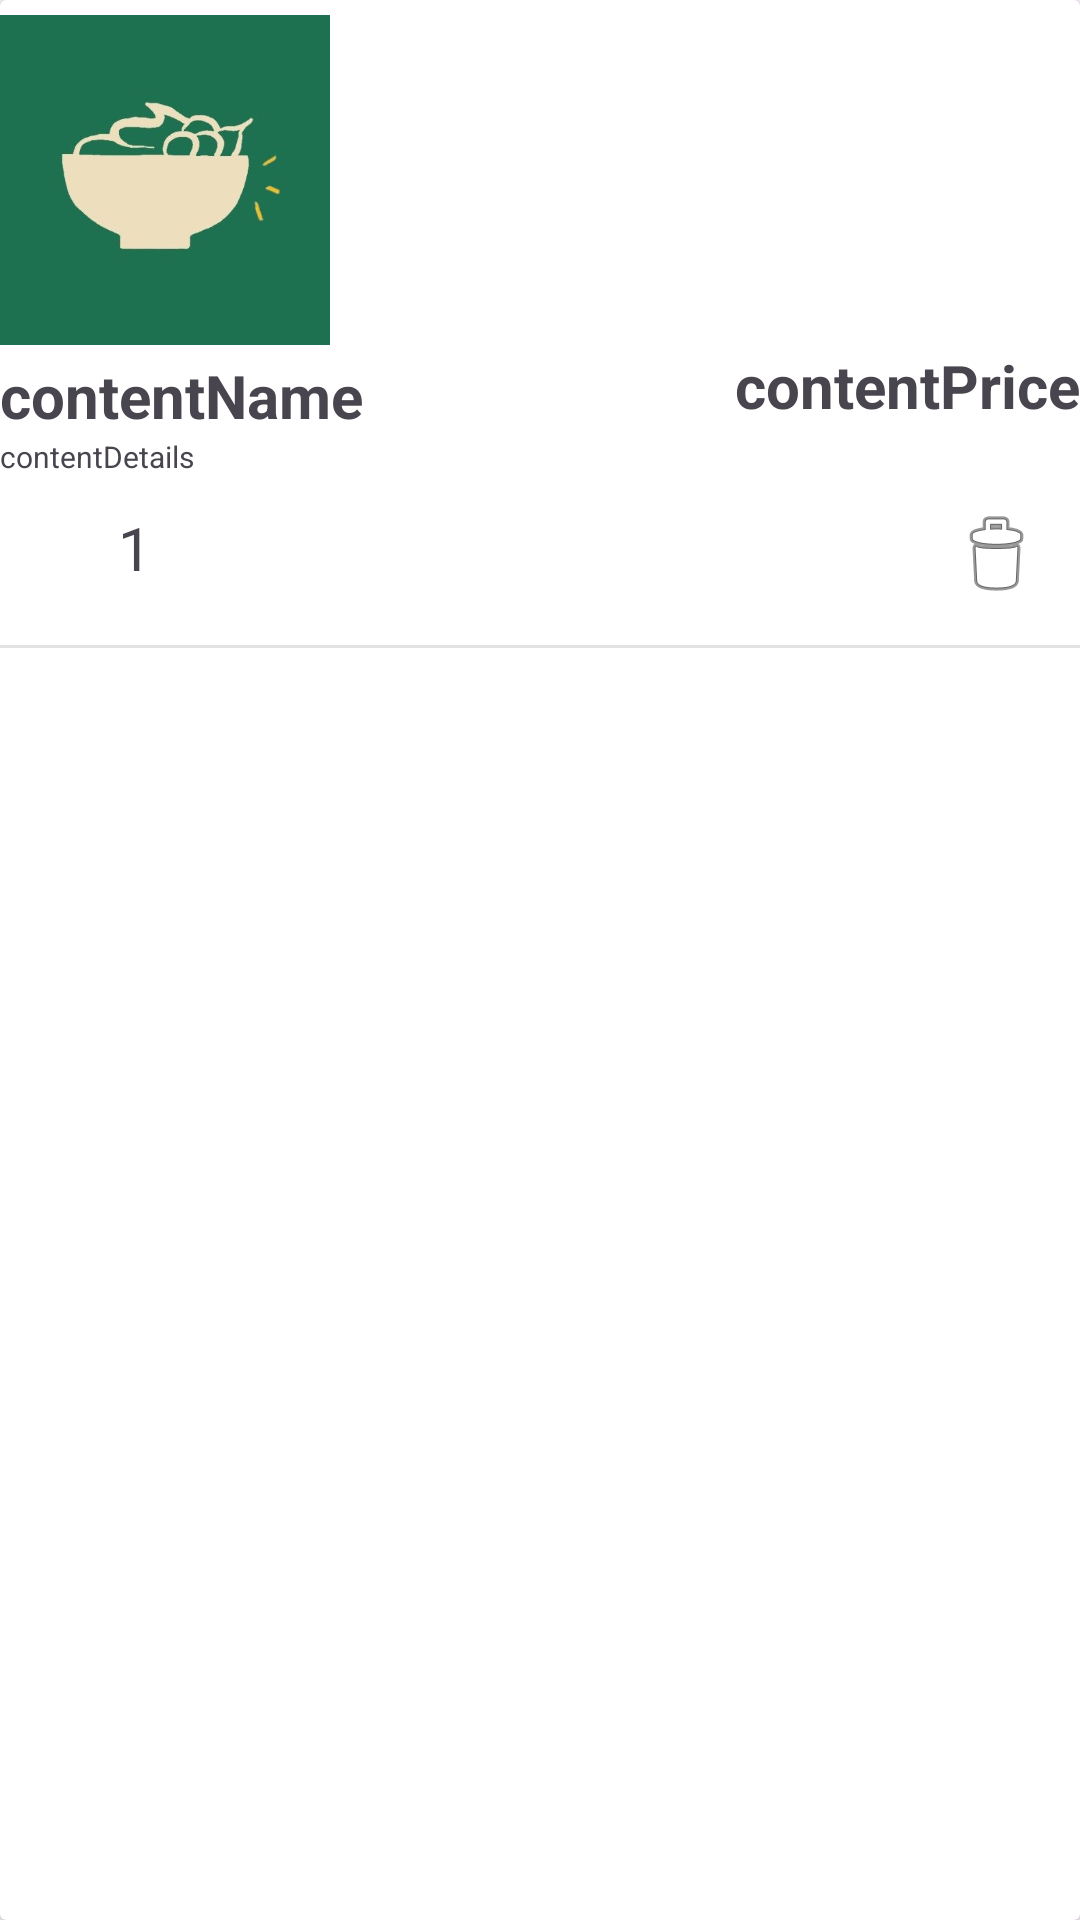

Where icons sit on this 1080*1920 app screen, as detection(x1, y1, x2, y2):
delete: detection(969, 516, 1024, 591)
